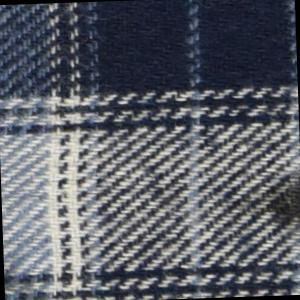Stain: (233, 171, 300, 236)
